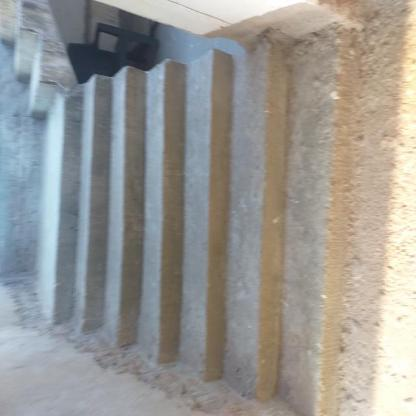stair: (26, 48, 416, 401)
